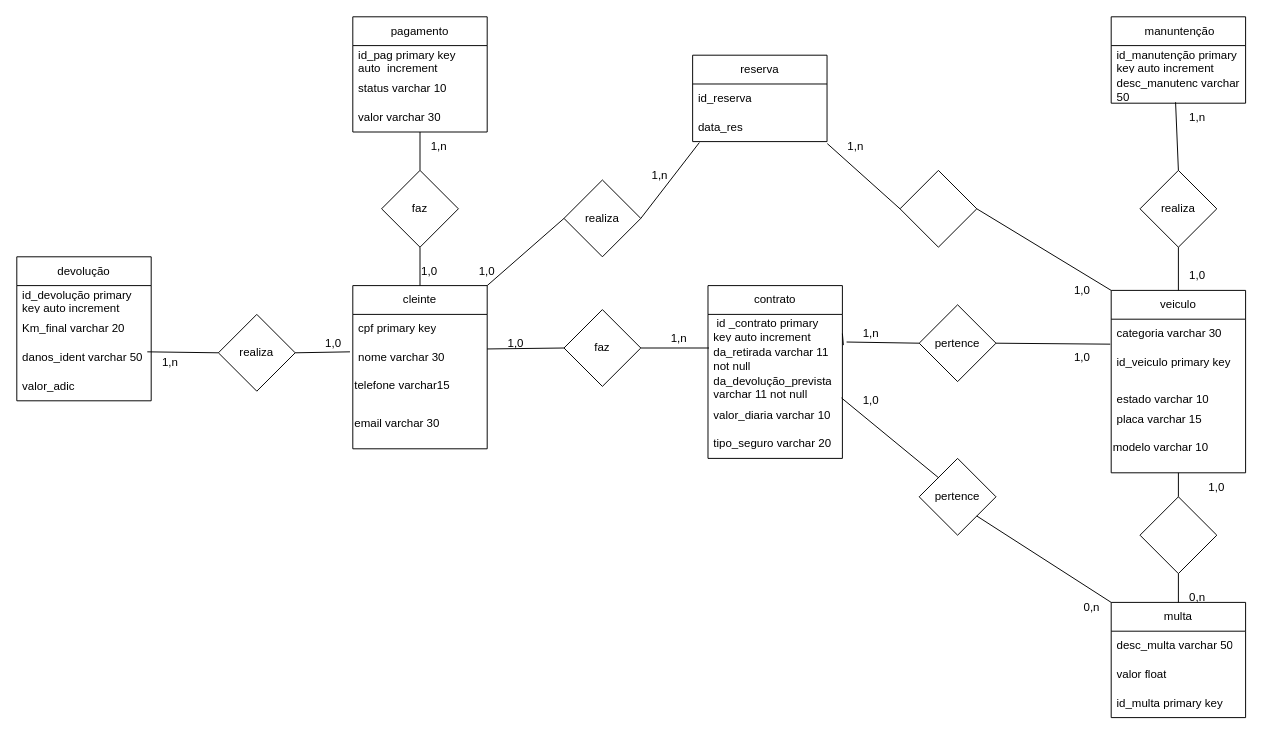
Image size: 1262x734. Some labels were removed from this diagram. Each missing label, with the centre of its shape:
"irá" goes at pixel 938 208.
"recebe" goes at pixel 1178 535.
